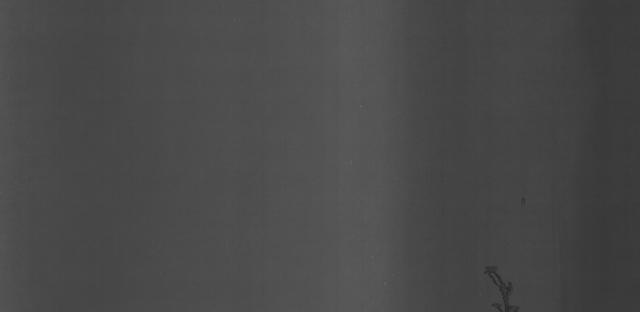water_spot: (471, 256, 523, 312)
